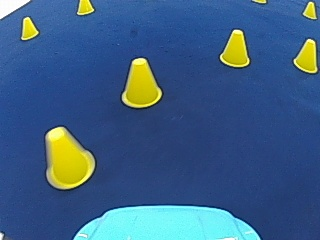cone: (43, 126, 93, 188), (121, 56, 161, 107), (219, 27, 251, 67), (293, 38, 318, 72), (19, 16, 38, 39), (302, 1, 317, 19), (76, 0, 93, 15)
